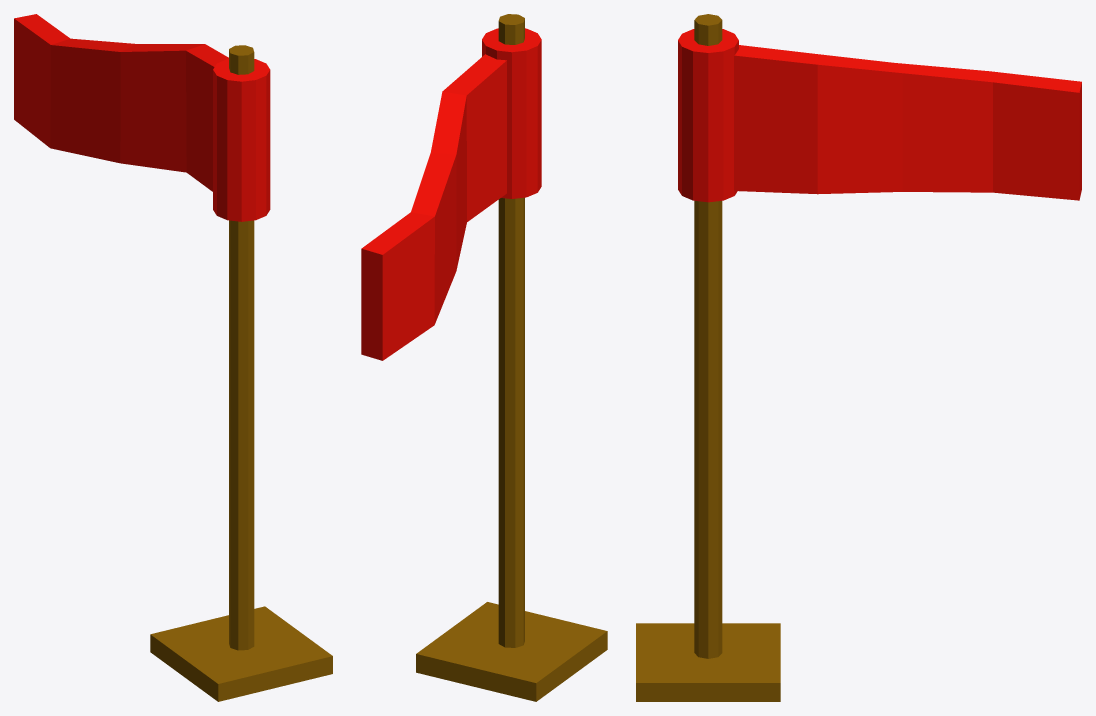
File: Drapeau.fbx
3 renders of one model, left to right at view 1: azimuth 30°, elevation 25°; view 2: azimuth 150°, elevation 25°; view 3: azimuth 270°, elevation 25°, orthographic. The views are drawn at different scales.
Visible parts, largest first — view 1: Plane, Cylinder, Cube, Cylinder.001; view 2: Plane, Cylinder, Cube, Cylinder.001; view 3: Plane, Cylinder, Cube, Cylinder.001.
Boxes of the visible parts, x1,y1,x2,y2 form: Plane: [14, 14, 228, 191]; Cylinder: [229, 45, 254, 650]; Cube: [150, 606, 332, 701]; Cylinder.001: [213, 59, 270, 221]; Plane: [361, 54, 506, 360]; Cylinder: [498, 14, 524, 647]; Cube: [416, 602, 607, 701]; Cylinder.001: [482, 28, 541, 198]; Plane: [734, 45, 1081, 200]; Cylinder: [694, 14, 722, 658]; Cube: [636, 623, 780, 701]; Cylinder.001: [678, 29, 738, 202].
Bounding box in the file's own units: 469 × 2363 × 1464.
